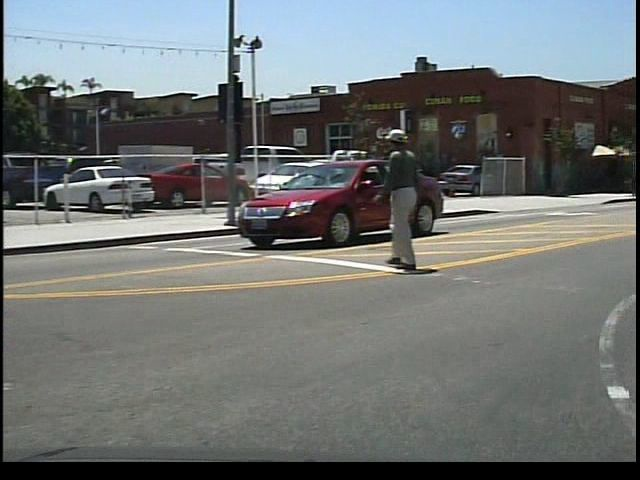person: (380, 121, 450, 278)
